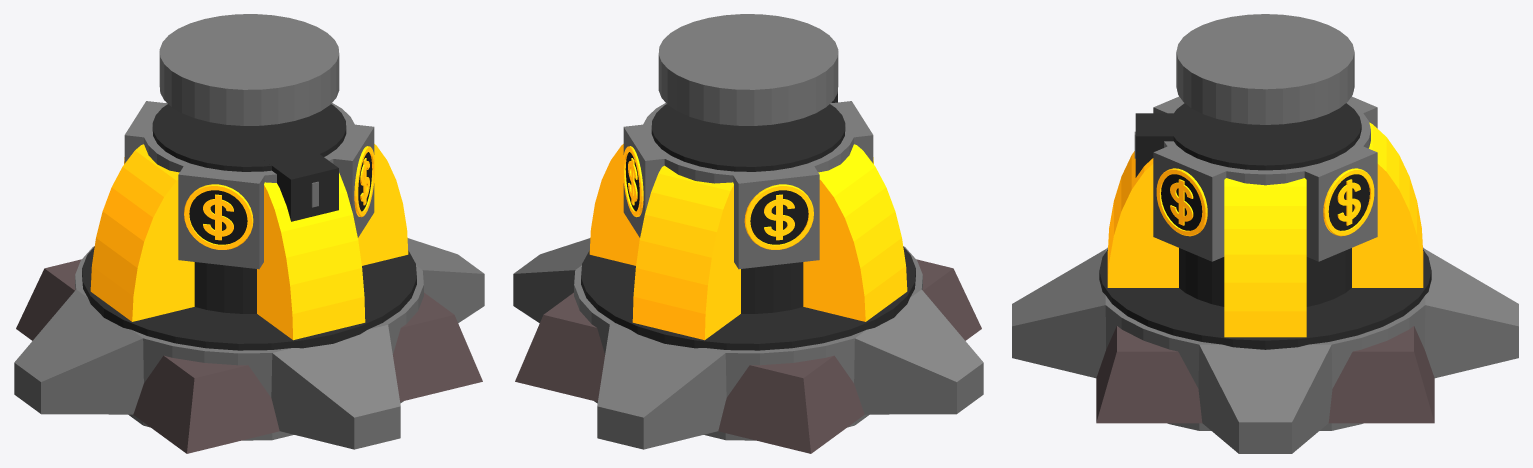
The model's file is MoneyGenerator.fbx.
The picture shows the model from 3 angles, left to right: view 1: azimuth 30°, elevation 25°; view 2: azimuth 150°, elevation 25°; view 3: azimuth 270°, elevation 25°; orthographic projection.
Visible parts, largest first — view 1: Cylinder.001, Cylinder; view 2: Cylinder.001, Cylinder; view 3: Cylinder.001, Cylinder.
Boxes of the visible parts, x1=… form: Cylinder.001: x1=82, y1=14, x2=416, y2=350; Cylinder: x1=14, y1=238, x2=484, y2=453; Cylinder.001: x1=581, y1=14, x2=915, y2=350; Cylinder: x1=513, y1=238, x2=983, y2=453; Cylinder.001: x1=1099, y1=14, x2=1431, y2=349; Cylinder: x1=1012, y1=247, x2=1518, y2=453.
Size of the model in its own units: 738 by 501 by 738.
